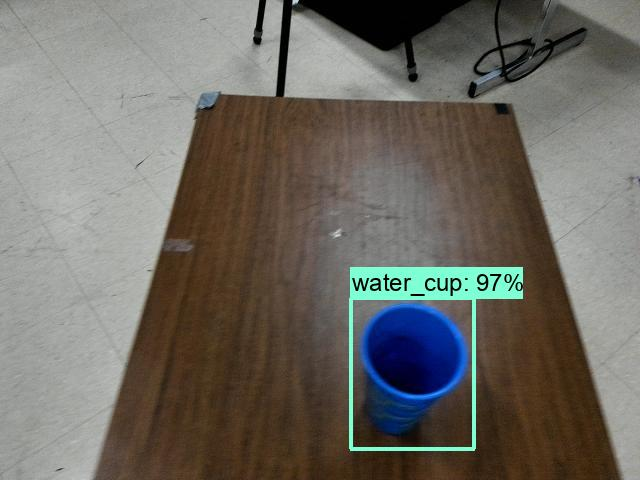water_cup: (353, 298, 475, 447)
